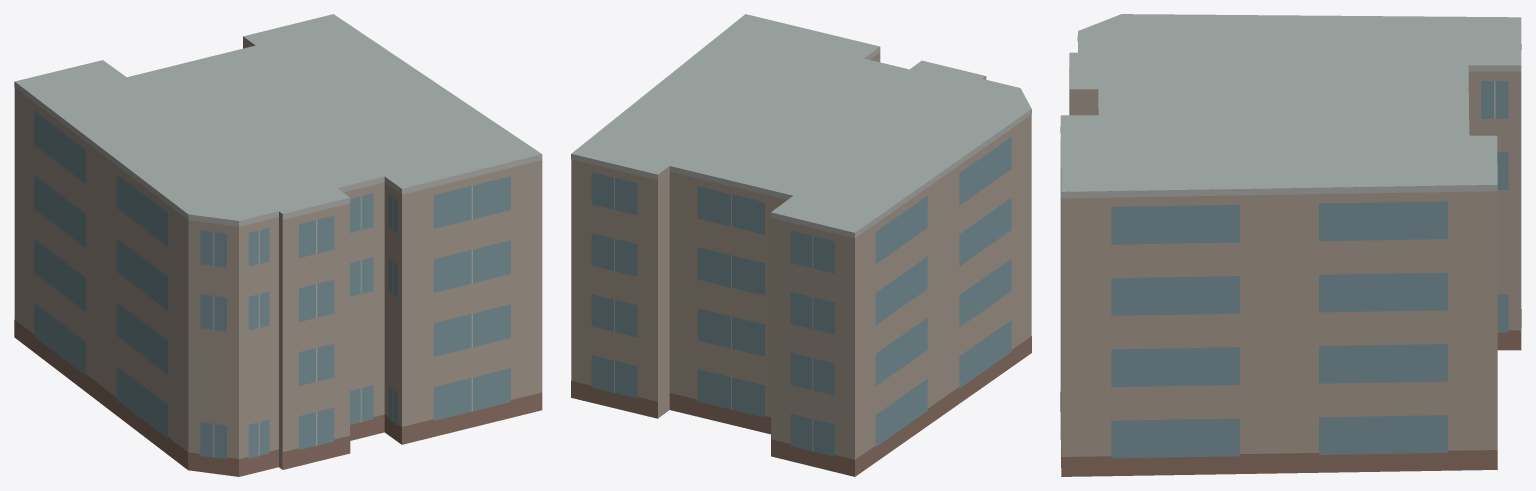
The model's file is survey-upis-32949018.glb.
The picture shows the model from 3 angles, left to right: view 1: azimuth 30°, elevation 25°; view 2: azimuth 150°, elevation 25°; view 3: azimuth 270°, elevation 25°; orthographic projection. The views are drawn at different scales.
Visible parts, largest first — view 1: survey-upis-32949018.tmp; view 2: survey-upis-32949018.tmp; view 3: survey-upis-32949018.tmp.
Boxes of the visible parts, x1,y1,x2,y2 form: survey-upis-32949018.tmp: [14, 14, 542, 476]; survey-upis-32949018.tmp: [571, 14, 1031, 476]; survey-upis-32949018.tmp: [1060, 14, 1521, 476].
Bounding box in the file's own units: 14.42 × 10.77 × 15.8.
